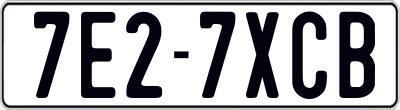2: (126, 12, 162, 102)
7: (34, 11, 73, 100), (198, 9, 234, 99)
B: (338, 11, 377, 98)
C: (289, 9, 328, 99)
E: (81, 12, 118, 98)
X: (244, 11, 278, 99)
